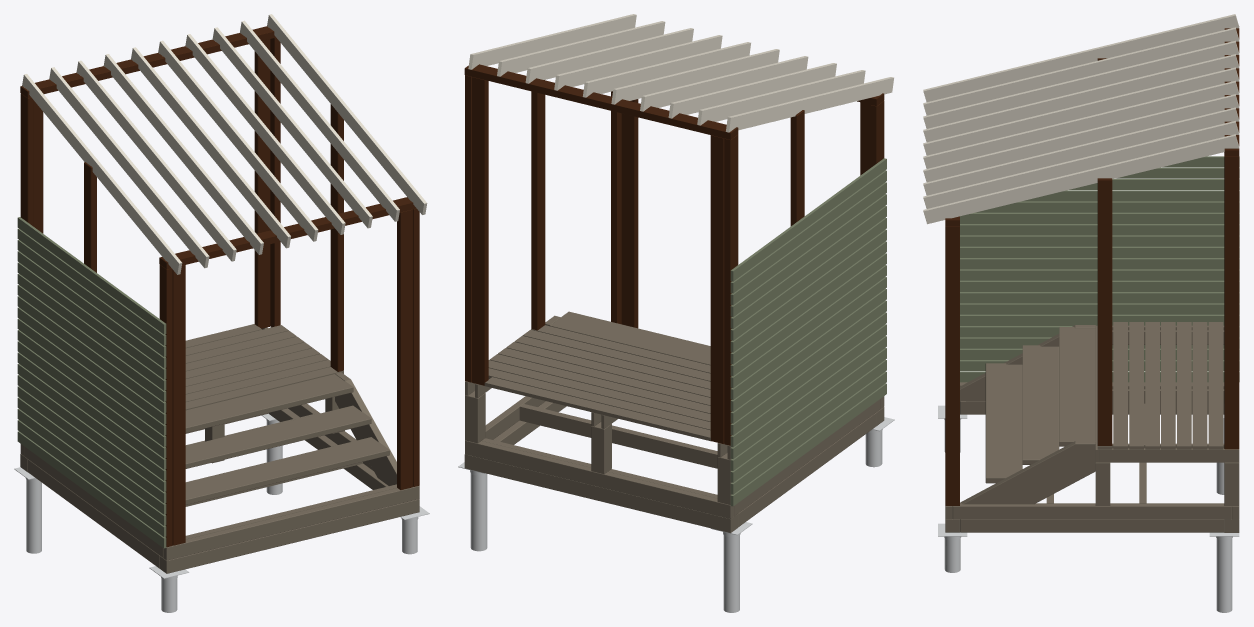
File: Крыльцо.fbx
3 views of the same model, side by side, from view 1: azimuth 30°, elevation 25°; view 2: azimuth 150°, elevation 25°; view 3: azimuth 270°, elevation 25° (orthographic). The views are drawn at different scales.
Parts seen in each view (by area): view 1: Обшивка, Cube.004, Ступень, Стойка.002, Mesh56.014, Ступень.001, Стойка.001, Ступень.002, Cube.012, Стойка.005, Mesh56.002, Стойка (+25 smaller); view 2: Обшивка, Cube.004, Стойка.005, Mesh56.010, Mesh56.005, Cube.010, Стойка.002, Cube.003, Mesh56.002, Mesh56.011, Mesh56.004, Ступень.002 (+25 smaller); view 3: Cube.004, Обшивка, Стойка.004, Mesh56.013, Ступень, Ступень.001, Mesh56.002, Ступень.002, Стойка.003, Укос.Лево.001, Cube.011, Ступень.004 (+14 smaller).
Part boxes in pixels (box(x1,y1,x2,y2)): Обшивка: box(17, 217, 166, 548); Cube.004: box(22, 14, 427, 274); Ступень: box(185, 437, 389, 504); Стойка.002: box(397, 209, 412, 490); Mesh56.014: box(163, 485, 419, 560); Ступень.001: box(185, 405, 371, 468); Стойка.001: box(172, 265, 185, 545); Ступень.002: box(185, 374, 353, 432); Cube.012: box(159, 499, 419, 573); Стойка.005: box(254, 39, 270, 328); Mesh56.002: box(330, 104, 343, 371); Стойка: box(159, 264, 172, 547); Обшивка: box(730, 158, 886, 506); Cube.004: box(468, 14, 893, 132); Стойка.005: box(472, 77, 488, 385); Mesh56.010: box(465, 440, 734, 518); Mesh56.005: box(710, 135, 724, 443); Cube.010: box(464, 454, 738, 532); Стойка.002: box(621, 99, 638, 328); Cube.003: box(464, 64, 738, 139); Mesh56.002: box(531, 80, 545, 330); Mesh56.011: box(519, 404, 717, 468); Mesh56.004: box(724, 135, 738, 445); Ступень.002: box(550, 311, 710, 365); Cube.004: box(923, 14, 1239, 224); Обшивка: box(960, 156, 1239, 382); Стойка.004: box(1224, 154, 1239, 449); Mesh56.013: box(952, 503, 1231, 519); Ступень: box(985, 363, 1022, 483); Ступень.001: box(1022, 345, 1059, 464); Mesh56.002: box(1097, 178, 1112, 445); Ступень.002: box(1059, 327, 1095, 446); Стойка.003: box(945, 226, 959, 505); Укос.Лево.001: box(960, 441, 1095, 504); Cube.011: box(960, 519, 1224, 532); Ступень.004: box(1208, 322, 1223, 449).
Size of the model in its own units: 210 by 357 by 215.
